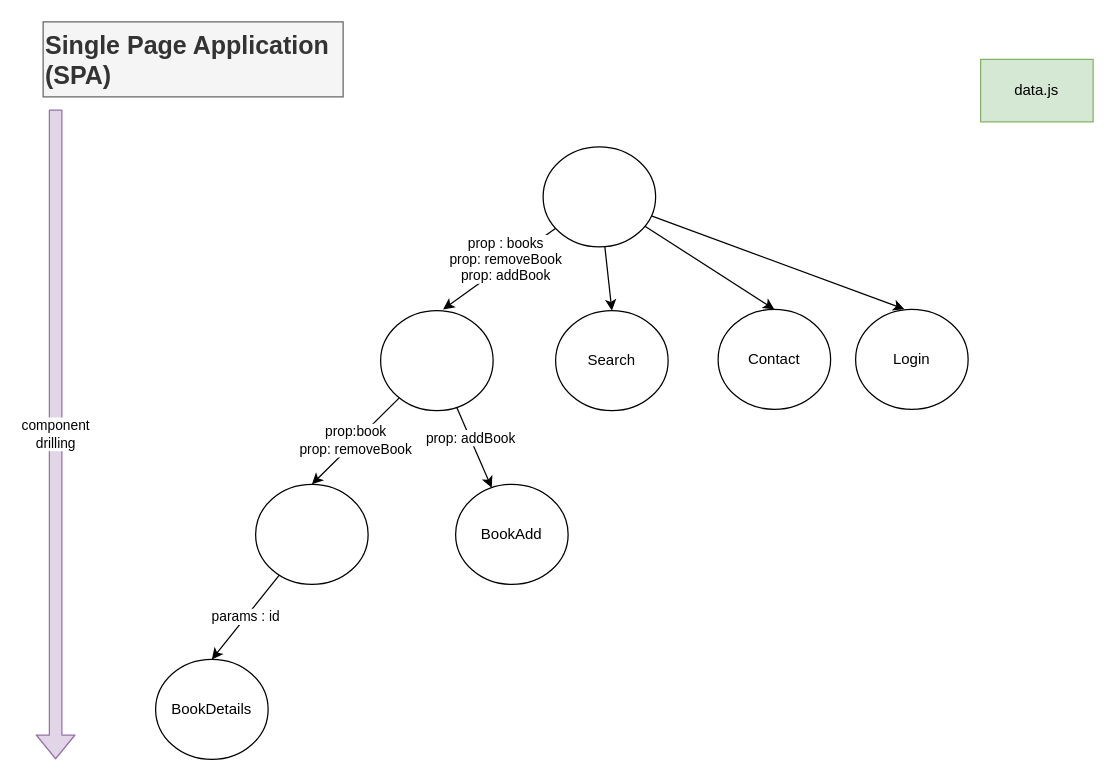
The diagram is 1115 pixels wide and 781 high, and some of its shapes have lost their labels. The shapes that lost their labels are listed below. From the top down, each one's centre as x and y in pixels, then its label:
At (x=599, y=196): "App".
At (x=436, y=360): "BookList".
At (x=311, y=533): "Book".
